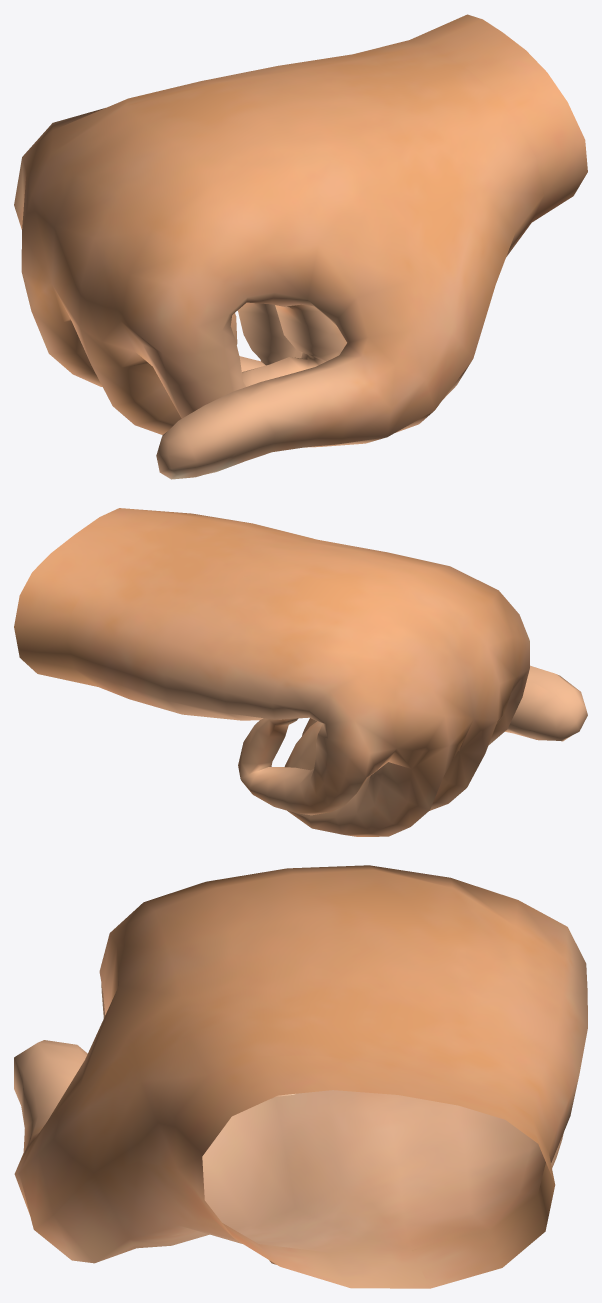
Rendered from H_grip_small.fbx.
3 renders of one model, top to bottom at view 1: azimuth 30°, elevation 25°; view 2: azimuth 150°, elevation 25°; view 3: azimuth 270°, elevation 25°, orthographic. The views are drawn at different scales.
Parts seen in each view (by area): view 1: H_grip_small; view 2: H_grip_small; view 3: H_grip_small.
Boxes of the visible parts, x1,y1,x2,y2 form: H_grip_small: (14, 14, 587, 479); H_grip_small: (14, 508, 587, 836); H_grip_small: (14, 865, 587, 1288).
Bounding box in the file's own units: 12.18 × 7.1 × 10.11.
1 material, 1 textured.
